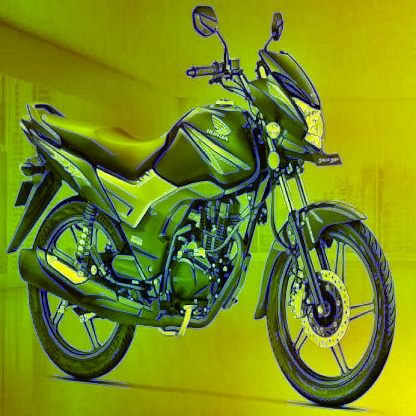bike: (13, 25, 383, 402)
